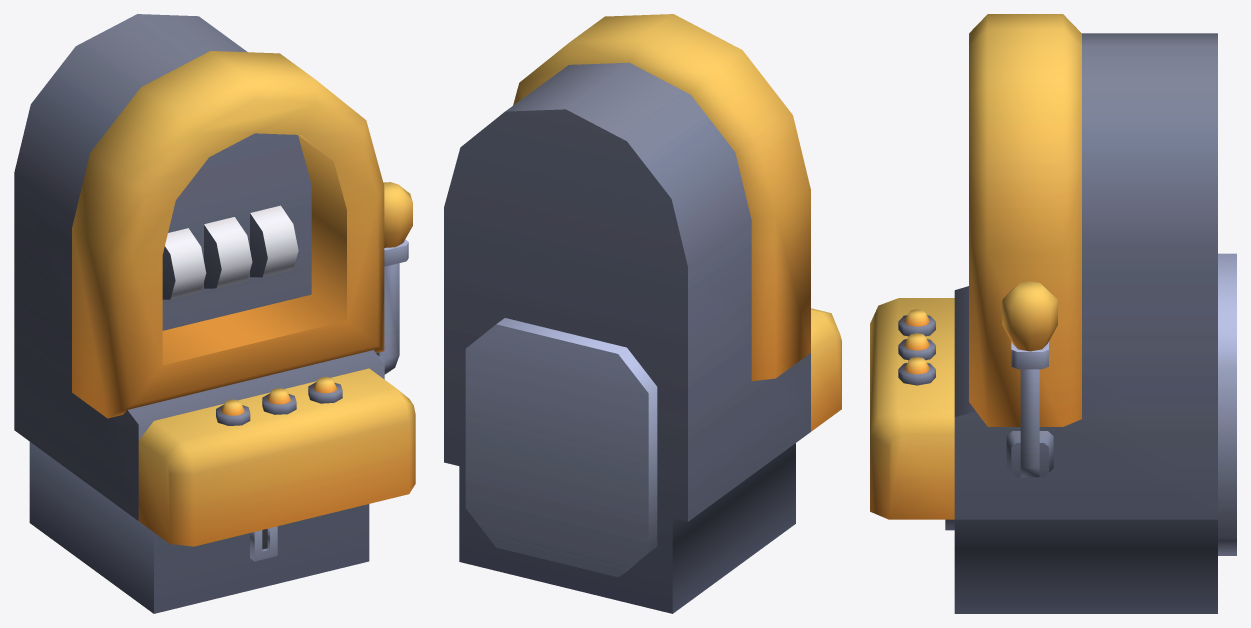
File: slot-machine-transformed.glb
The picture shows the model from 3 angles, left to right: view 1: azimuth 30°, elevation 25°; view 2: azimuth 150°, elevation 25°; view 3: azimuth 270°, elevation 25°; orthographic projection. The views are drawn at different scales.
Visible parts, largest first — view 1: gambling-machine; view 2: gambling-machine; view 3: gambling-machine.
Part boxes in pixels (left/top/right/bottom): gambling-machine: left=14, top=14, right=415, bottom=613; gambling-machine: left=444, top=14, right=841, bottom=613; gambling-machine: left=870, top=14, right=1236, bottom=613.
Size of the model in its own units: 0.5245 by 0.7759 by 0.4875.
Materials: 1 (1 with a texture image).
